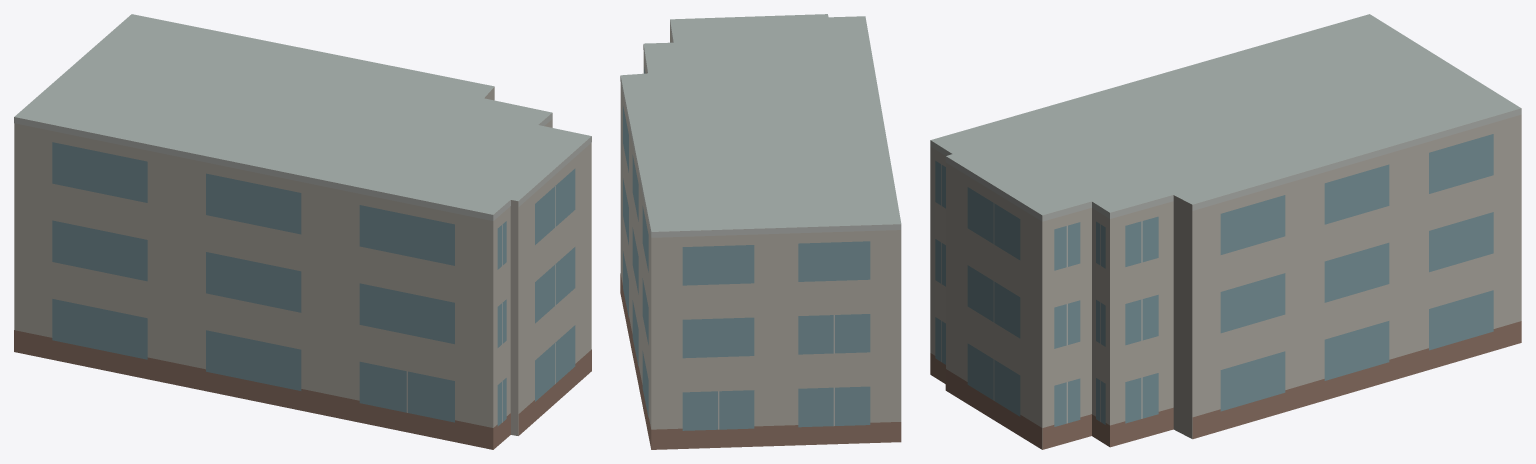
The model's file is survey-upis-32634231.glb.
3 views of the same model, side by side, from view 1: azimuth 30°, elevation 25°; view 2: azimuth 150°, elevation 25°; view 3: azimuth 270°, elevation 25° (orthographic). The views are drawn at different scales.
Visible parts, largest first — view 1: survey-upis-32634231.tmp; view 2: survey-upis-32634231.tmp; view 3: survey-upis-32634231.tmp.
Boxes of the visible parts, left/top/right/bottom form: survey-upis-32634231.tmp: left=14, top=14, right=591, bottom=449; survey-upis-32634231.tmp: left=620, top=14, right=901, bottom=449; survey-upis-32634231.tmp: left=930, top=14, right=1521, bottom=449.
Size of the model in its own units: 16.86 by 9.15 by 20.92.
